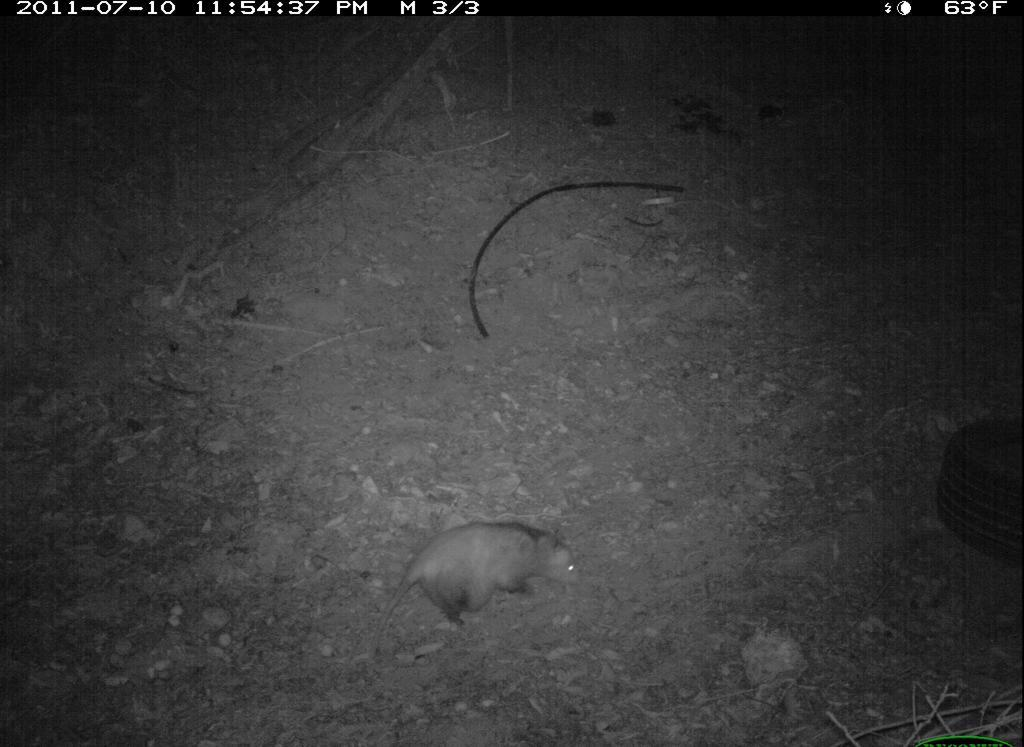opossum: (367, 515, 589, 655)
